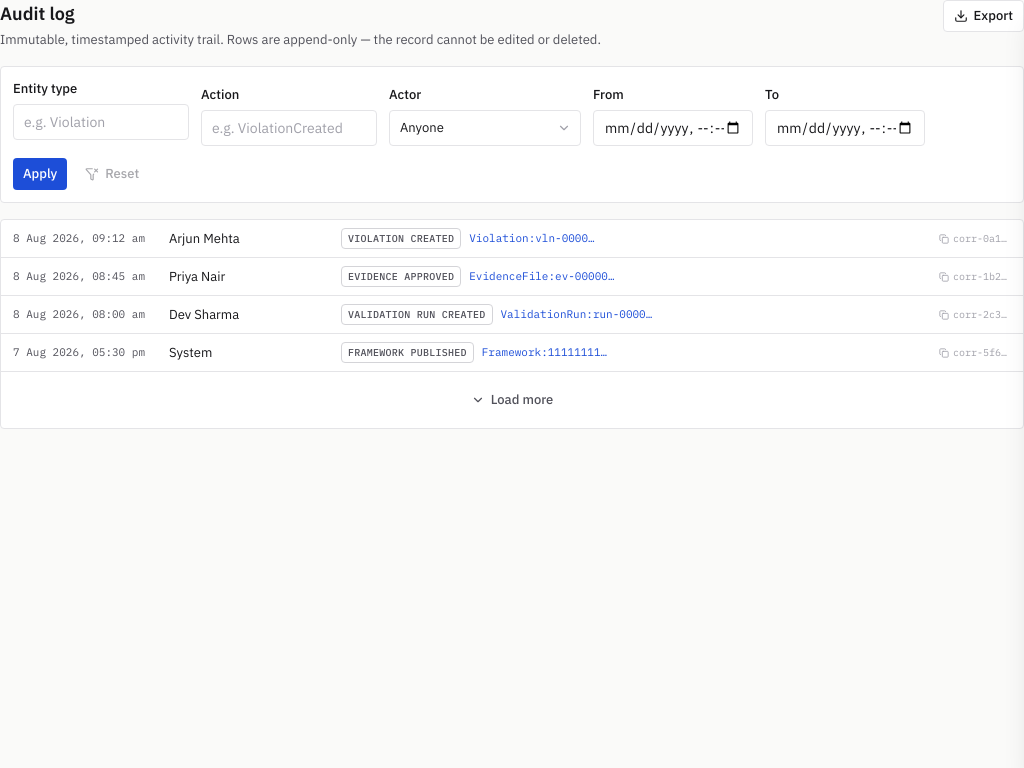
AuditView (§9.12) › opens the export dialog with format options when permitted
Expected: the text "Violation Created" is shown, [341,228,461,249]
Click the button "Export": (983, 16) [943,0,1023,32]
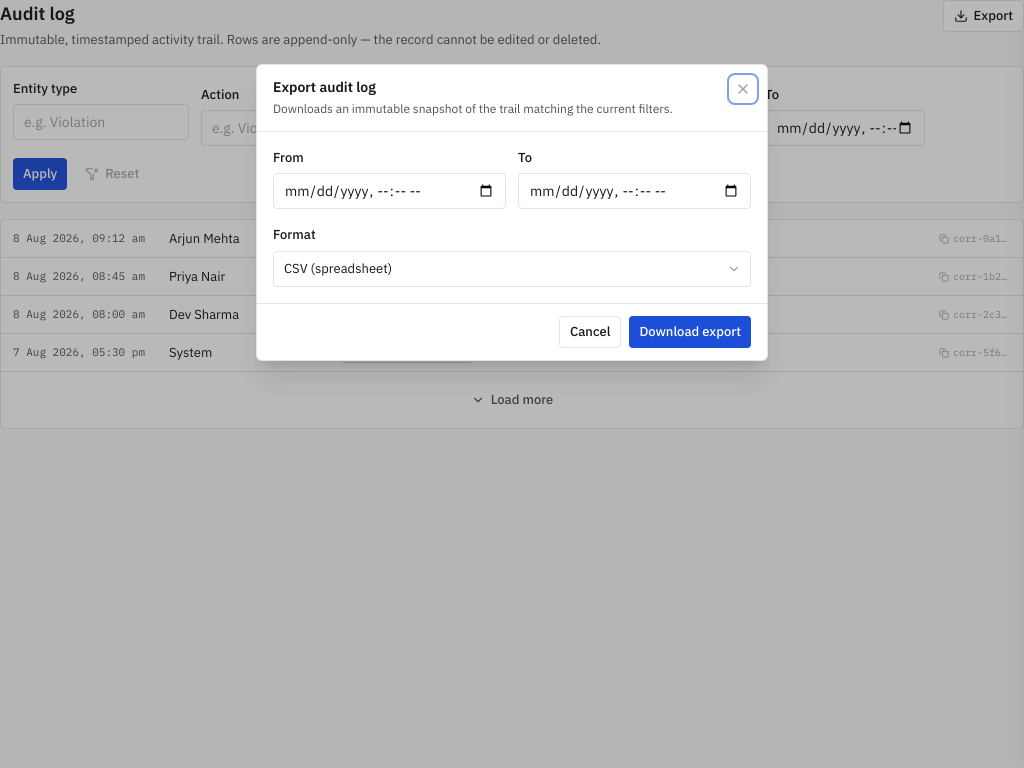
Expected: the dropdown labelled "Format" is shown, [273,250,751,286]
Expected: the button "Download export" is shown, [629,316,751,348]
